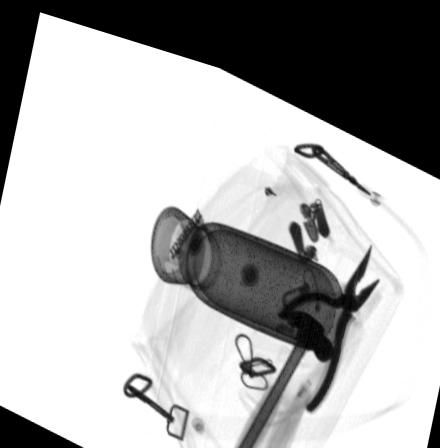Hammer: (223, 291, 334, 448)
Pliers: (275, 222, 379, 393)
